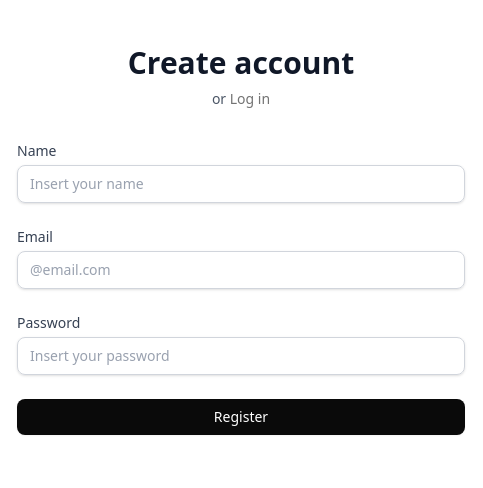
Scenario: Register › Should show required field errors
This screenshot has width=483, height=488.
Click the button "Register" at (241,417), box [17,399,465,435]
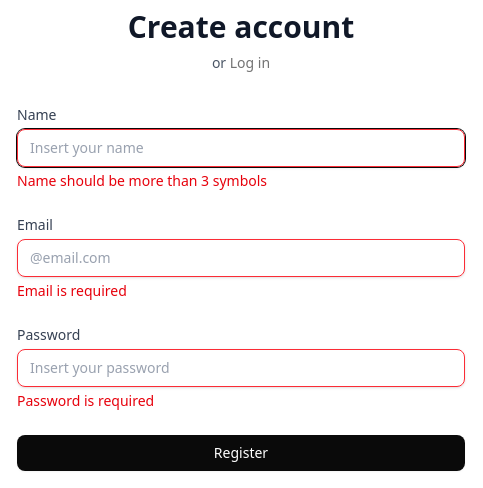
Now the text "Name should be more than 3 symbols" is shown, box [17,171,267,190]
Now the text "Email is required" is shown, box [17,281,127,300]
Now the text "Password is required" is shown, box [17,391,154,410]
